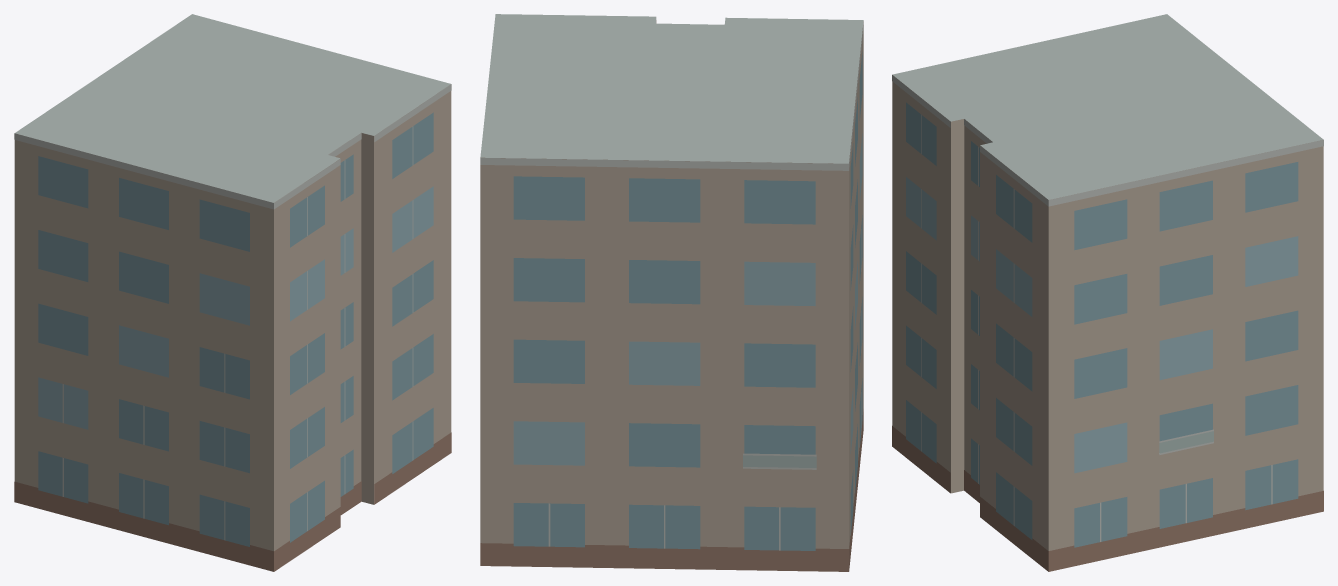
File: survey-upis-32943882.glb
3 renders of one model, left to right at view 1: azimuth 30°, elevation 25°; view 2: azimuth 150°, elevation 25°; view 3: azimuth 270°, elevation 25°, orthographic. The views are drawn at different scales.
Visible parts, largest first — view 1: survey-upis-32943882.tmp; view 2: survey-upis-32943882.tmp; view 3: survey-upis-32943882.tmp.
Part boxes in pixels (x1,y1,x2,y2): survey-upis-32943882.tmp: (14, 14, 451, 571); survey-upis-32943882.tmp: (480, 14, 863, 571); survey-upis-32943882.tmp: (892, 14, 1323, 571).
Bounding box in the file's own units: 14.82 × 13.8 × 14.53.
